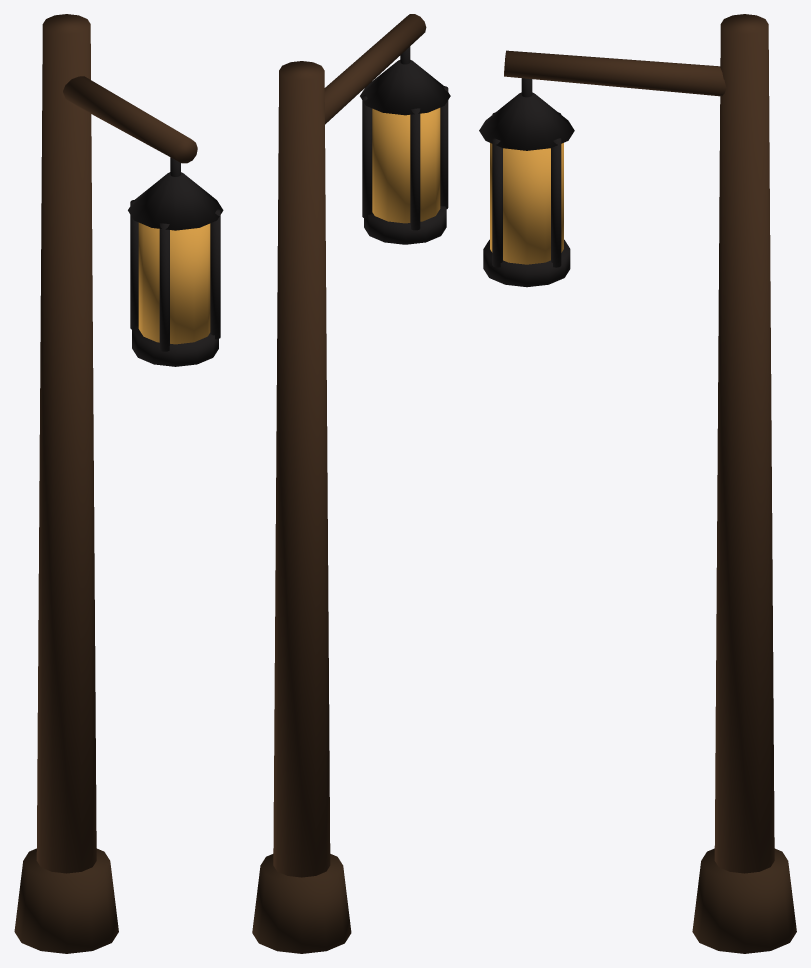
The model's file is Lantern.fbx.
3 renders of one model, left to right at view 1: azimuth 30°, elevation 25°; view 2: azimuth 150°, elevation 25°; view 3: azimuth 270°, elevation 25°, orthographic. The views are drawn at different scales.
Visible parts, largest first — view 1: Lantern.001; view 2: Lantern.001; view 3: Lantern.001.
Boxes of the visible parts, x1=… form: Lantern.001: x1=14, y1=14, x2=223, y2=953; Lantern.001: x1=252, y1=14, x2=450, y2=953; Lantern.001: x1=479, y1=14, x2=796, y2=953.
Bounding box in the file's own units: 0.24 × 2.3 × 0.73.
